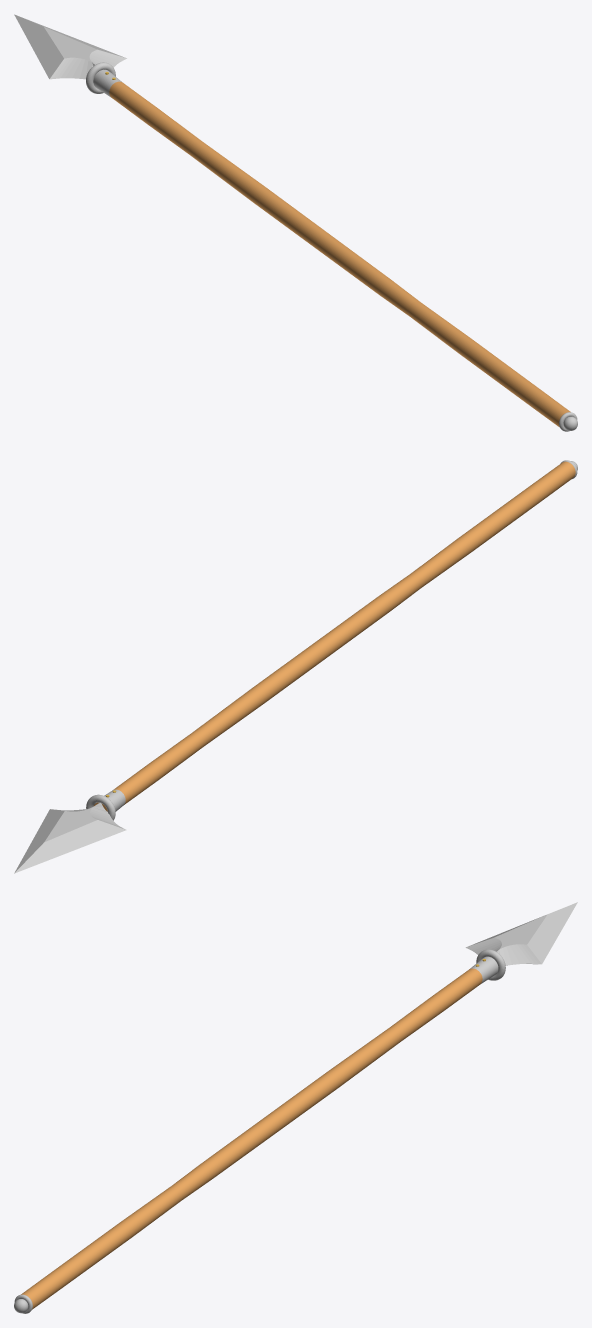
File: Speer.fbx
The picture shows the model from 3 angles, top to bottom: view 1: azimuth 30°, elevation 25°; view 2: azimuth 150°, elevation 25°; view 3: azimuth 330°, elevation 25°; orthographic projection.
Parts seen in each view (by area): view 1: Speer 2; view 2: Speer 2; view 3: Speer 2.
Boxes of the visible parts, bbox=[...] form: Speer 2: bbox=[14, 14, 577, 431]; Speer 2: bbox=[14, 460, 577, 873]; Speer 2: bbox=[14, 902, 577, 1313].
Bounding box in the file's own units: 61.43 × 22.82 × 771.
